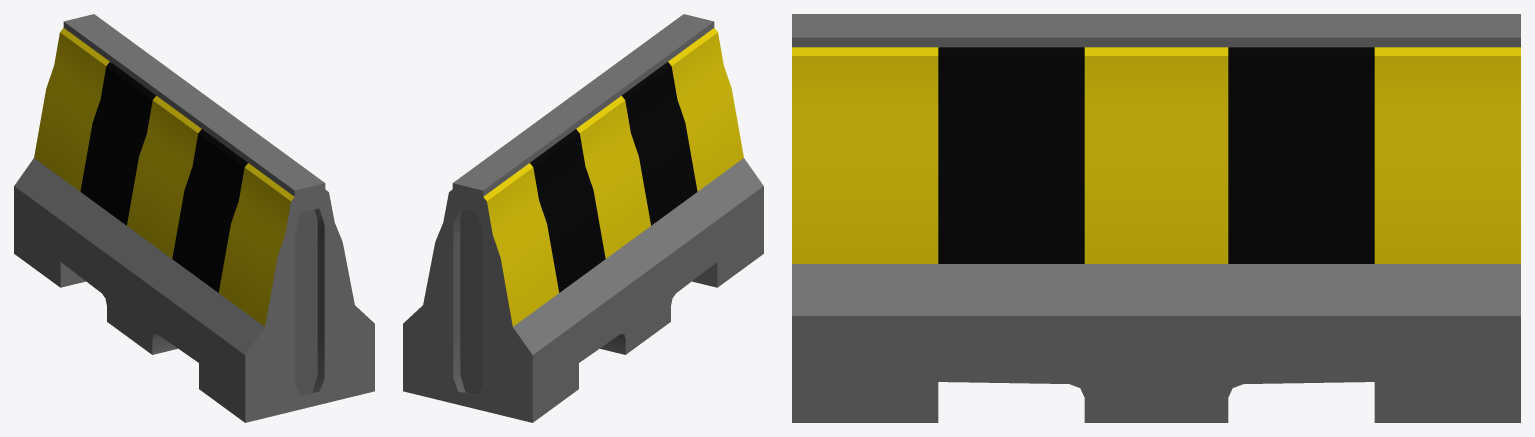
File: concretebarrier.fbx
The picture shows the model from 3 angles, left to right: view 1: azimuth 30°, elevation 25°; view 2: azimuth 150°, elevation 25°; view 3: azimuth 270°, elevation 25°; orthographic projection. The views are drawn at different scales.
Visible parts, largest first — view 1: ConcreteBarrier; view 2: ConcreteBarrier; view 3: ConcreteBarrier.
Boxes of the visible parts, x1=… form: ConcreteBarrier: x1=14, y1=14, x2=374, y2=422; ConcreteBarrier: x1=403, y1=14, x2=763, y2=422; ConcreteBarrier: x1=792, y1=14, x2=1520, y2=422.
Bounding box in the file's own units: 0.8542 × 1.39 × 2.64.
